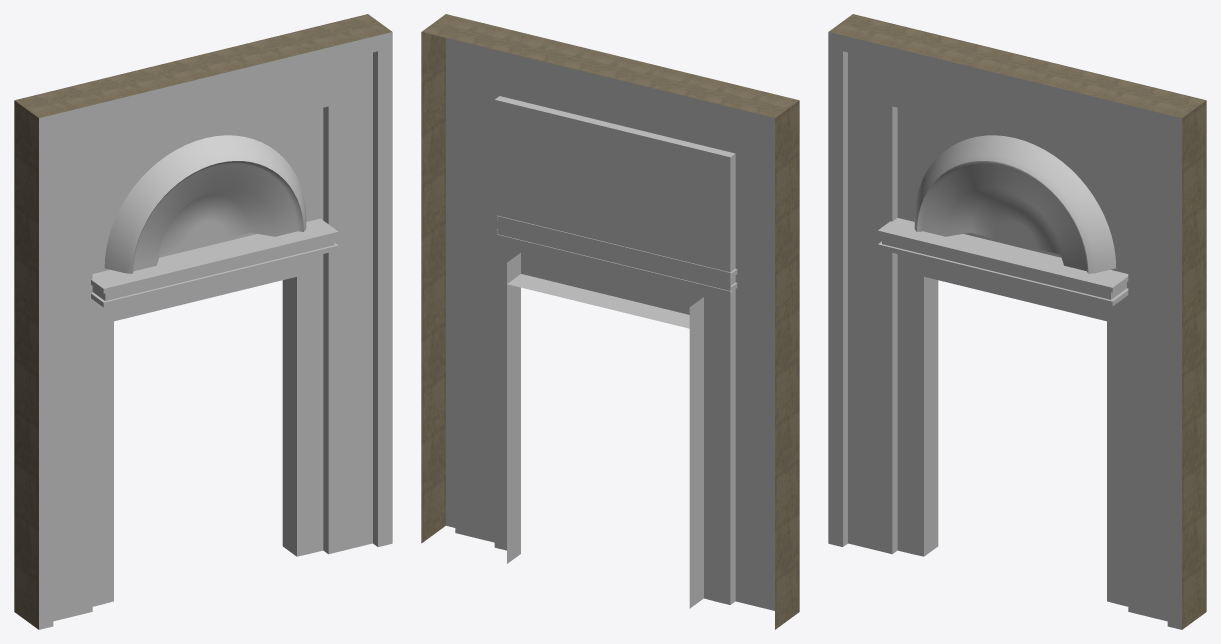
File: Wall_Doorway.FBX
3 renders of one model, left to right at view 1: azimuth 30°, elevation 25°; view 2: azimuth 150°, elevation 25°; view 3: azimuth 330°, elevation 25°, orthographic.
Parts seen in each view (by area): view 1: Wall_Doorway; view 2: Wall_Doorway; view 3: Wall_Doorway.
Part boxes in pixels (box(x1,y1,x2,y2)): Wall_Doorway: box(14, 14, 392, 629); Wall_Doorway: box(421, 14, 799, 629); Wall_Doorway: box(828, 14, 1206, 629).
Size of the model in its own units: 3.98 by 5.5 by 0.6284.
